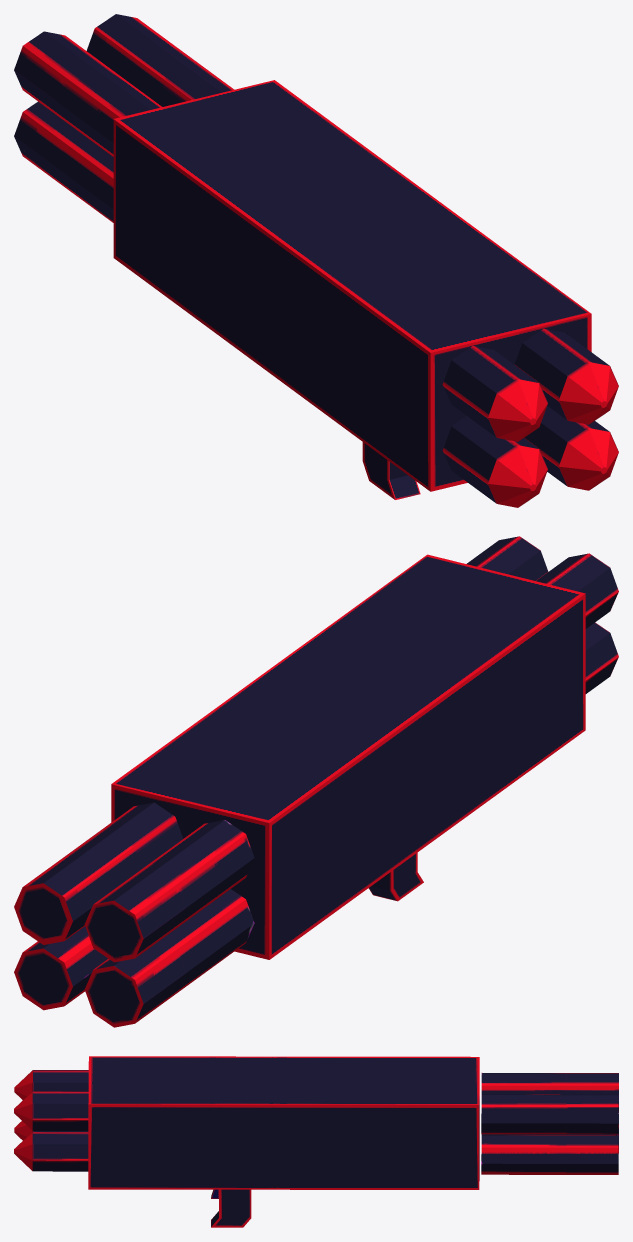
Rendered from rocket_swap_centered_v2.fbx.
The picture shows the model from 3 angles, top to bottom: view 1: azimuth 30°, elevation 25°; view 2: azimuth 150°, elevation 25°; view 3: azimuth 270°, elevation 25°; orthographic projection. The views are drawn at different scales.
Visible parts, largest first — view 1: Cube, Cylinder.001, Cylinder, faceOne, faceOne.001, Cylinder.002, faceOne.002, faceOne.003; view 2: Cube, Cylinder.001, Cylinder, Cylinder.002, Cylinder.003, faceOne, faceOne.001, faceOne.002; view 3: Cube, Cylinder, Cylinder.003, Cylinder.001, faceOne.003, faceOne.001, faceOne, faceOne.002.
Part boxes in pixels (x1,y1,x2,y2): Cube: [113, 80, 591, 499]; Cylinder.001: [14, 31, 162, 156]; Cylinder: [86, 14, 233, 106]; faceOne: [442, 346, 547, 441]; faceOne.001: [514, 328, 618, 424]; Cylinder.002: [14, 101, 113, 222]; faceOne.002: [442, 416, 547, 507]; faceOne.003: [524, 406, 618, 490]; Cube: [111, 554, 585, 959]; Cylinder.001: [84, 820, 254, 962]; Cylinder: [14, 802, 183, 944]; Cylinder.002: [84, 889, 254, 1027]; Cylinder.003: [14, 926, 108, 1010]; faceOne: [536, 553, 618, 628]; faceOne.001: [467, 536, 548, 580]; faceOne.002: [585, 622, 618, 693]; Cube: [88, 1056, 479, 1227]; Cylinder: [481, 1094, 618, 1134]; Cylinder.003: [481, 1135, 618, 1174]; Cylinder.001: [481, 1073, 618, 1112]; faceOne.003: [14, 1131, 88, 1171]; faceOne.001: [14, 1091, 88, 1130]; faceOne: [14, 1070, 88, 1099]; faceOne.002: [14, 1121, 88, 1140].
Bounding box in the file's own units: 2.71 × 3.76 × 14.24.
